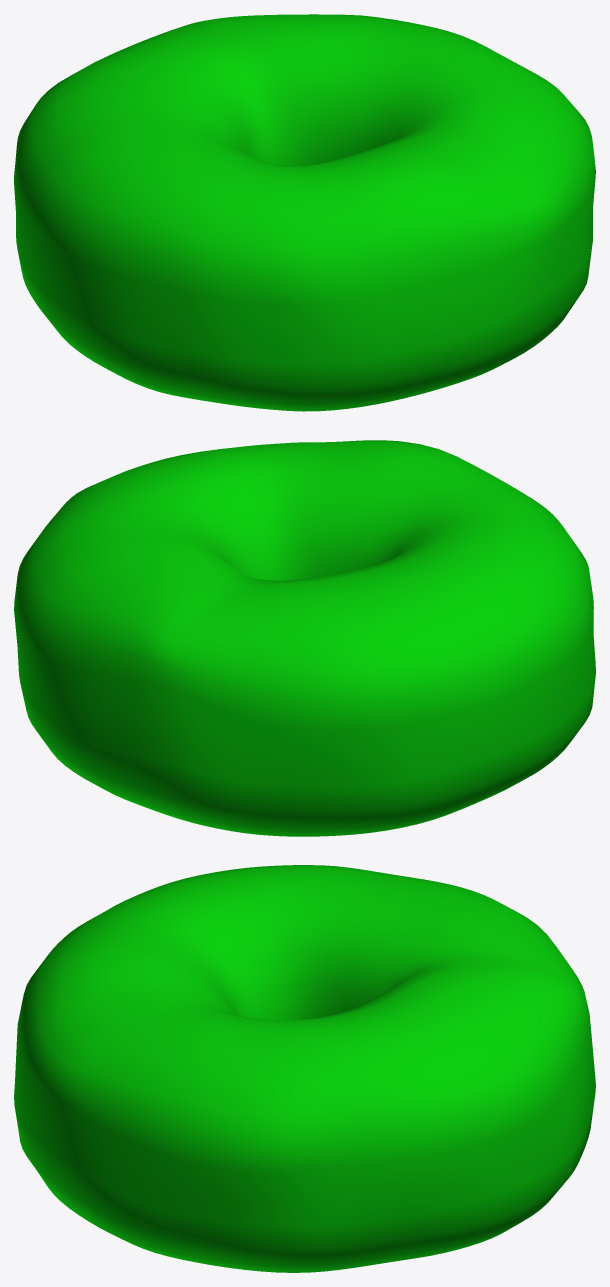
File: dough.obj
3 views of the same model, one above another, from view 1: azimuth 30°, elevation 25°; view 2: azimuth 150°, elevation 25°; view 3: azimuth 270°, elevation 25° (orthographic). The views are drawn at different scales.
Parts seen in each view (by area): view 1: Dough_Torus.001; view 2: Dough_Torus.001; view 3: Dough_Torus.001.
Part boxes in pixels (x1=…): Dough_Torus.001: x1=14, y1=14, x2=595, y2=411; Dough_Torus.001: x1=14, y1=440, x2=595, y2=836; Dough_Torus.001: x1=14, y1=865, x2=595, y2=1272.
Bounding box in the file's own units: 0.1457 × 0.0633 × 0.1413.
